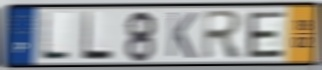8: (124, 8, 157, 63)
E: (246, 10, 287, 60)
K: (165, 10, 199, 61)
L: (80, 10, 115, 63), (39, 11, 72, 62)
R: (201, 9, 244, 62)
